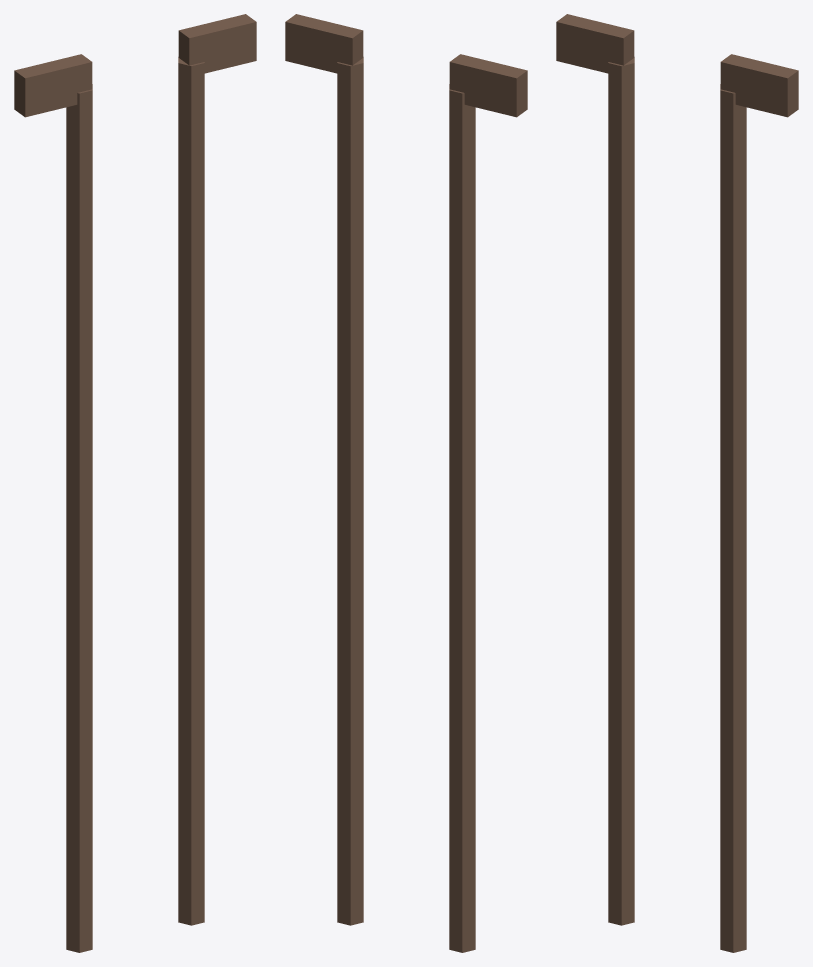
Rendered from haunted_witchstaff.glb.
3 renders of one model, left to right at view 1: azimuth 30°, elevation 25°; view 2: azimuth 150°, elevation 25°; view 3: azimuth 330°, elevation 25°, orthographic.
Visible parts, largest first — view 1: Haunted_WitchStaff; view 2: Haunted_WitchStaff; view 3: Haunted_WitchStaff.
Part boxes in pixels (bbox=[...]): Haunted_WitchStaff: bbox=[14, 14, 256, 952]; Haunted_WitchStaff: bbox=[285, 14, 527, 952]; Haunted_WitchStaff: bbox=[556, 14, 798, 952].
Size of the model in its own units: 0.62 by 2.27 by 0.0606.
